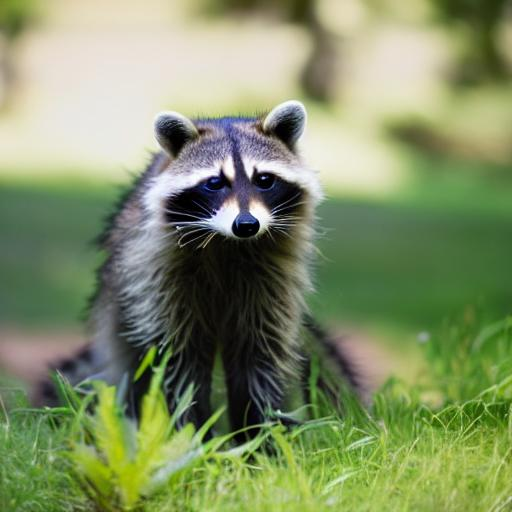raccoon: (78, 97, 346, 416)
